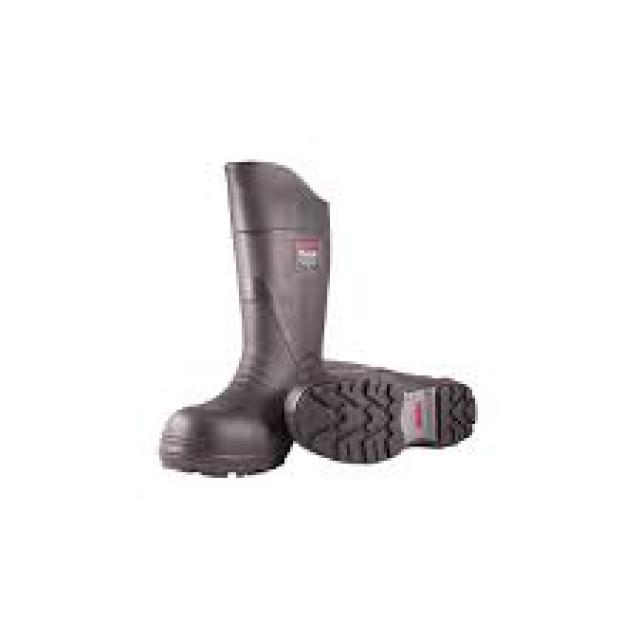shoes: (160, 162, 476, 476)
